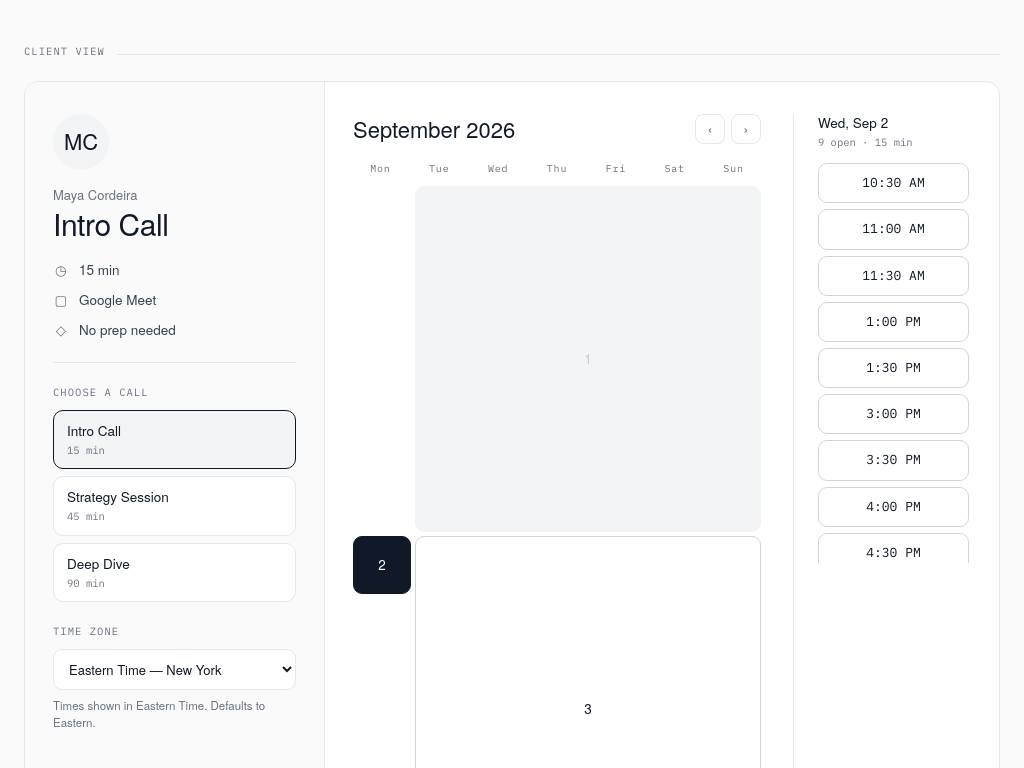
Scenario: BookingPage › shows times in the chosen zone and resets the selected slot
The image size is (1024, 768).
Click the option "10:30 AM" at [894, 183], box [818,163,969,204]
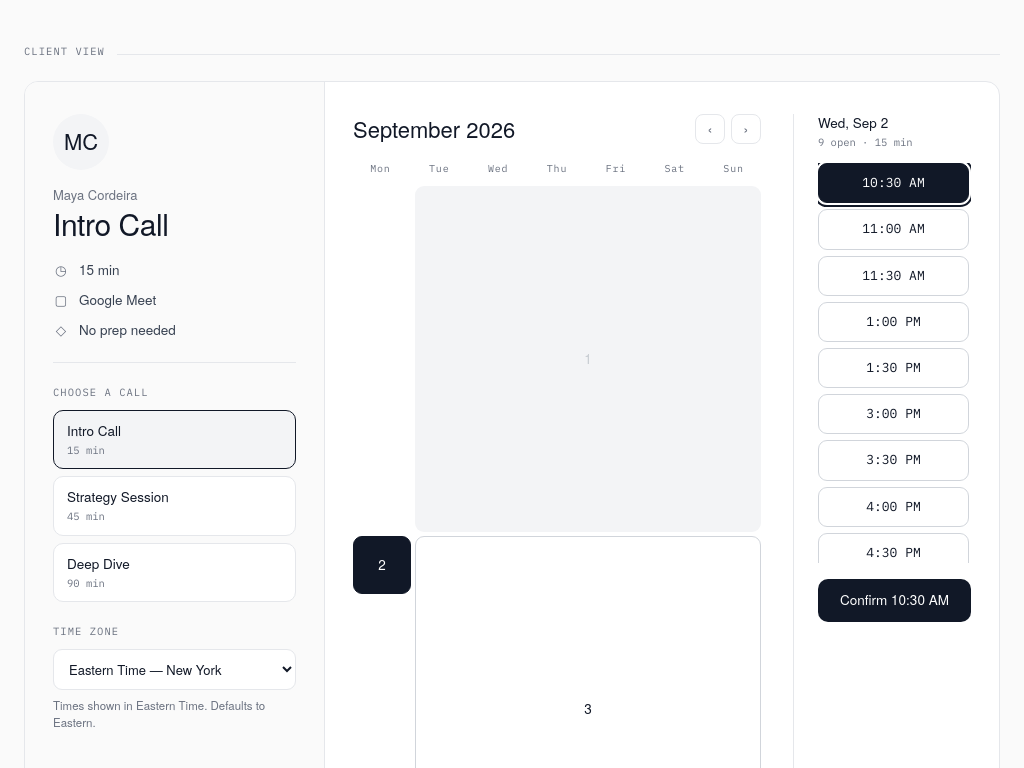
Result: the button "Confirm 10:30 AM" is shown at [818,579,971,622]
Select "Pacific Time — Los Angeles" in the dropdown labelled "Time zone" at [174, 670], box [53,649,296,690]
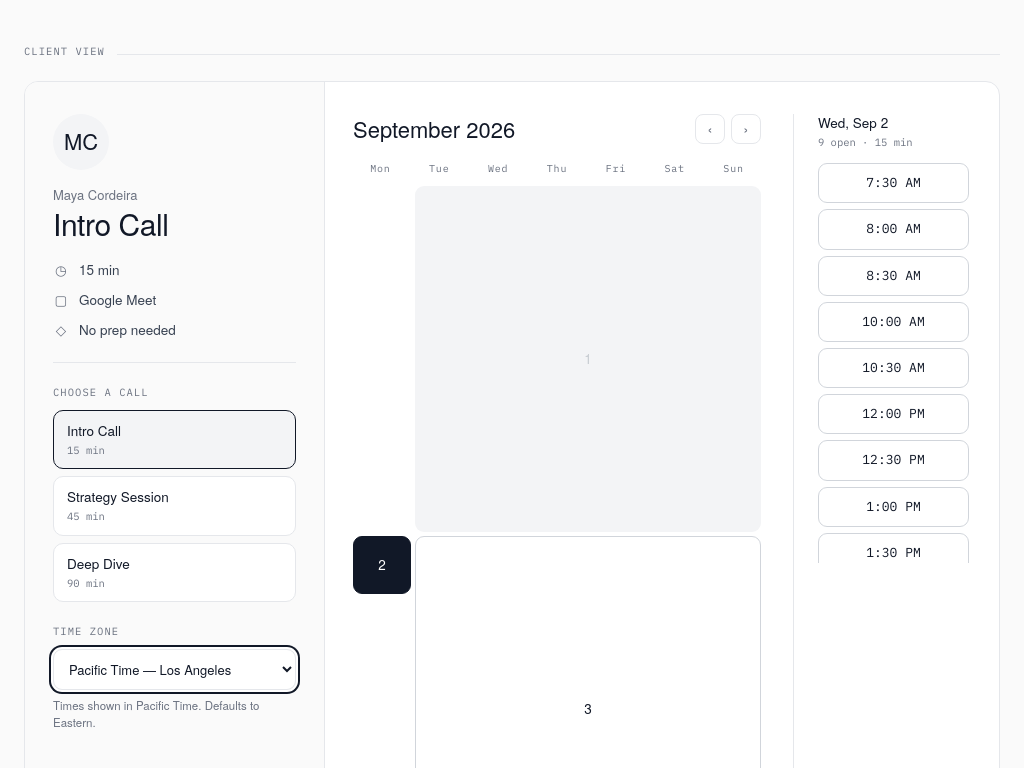
Result: the button "Confirm" is gone
Result: the option "7:30 AM" is shown at [818,163,969,204]
Result: the text "Times shown in Pacific Time. Defaults to Eastern." is shown at [53,697,259,730]
